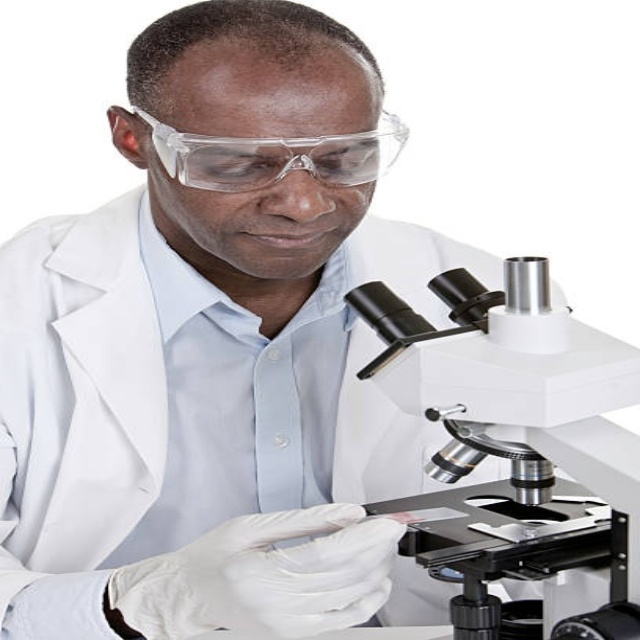Gafas: (130, 108, 407, 191)
Guantes: (113, 502, 404, 639)
Sin_mascara: (226, 219, 345, 271)
